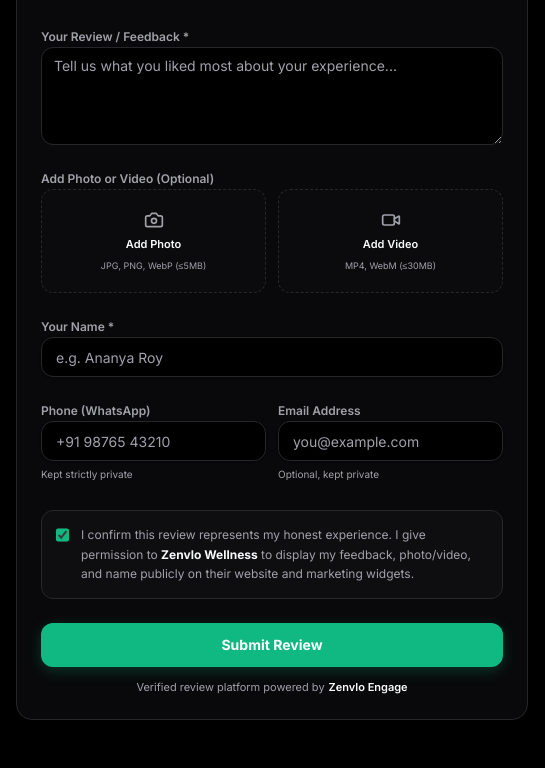
Test: PublicTestimonialPage Integration Tests › validates minimum review content and reviewer name length
(page scrolled)
Note: Submit without typing review content or reviewer name
Click the button "Submit Review": (272, 644) [41, 622, 503, 666]
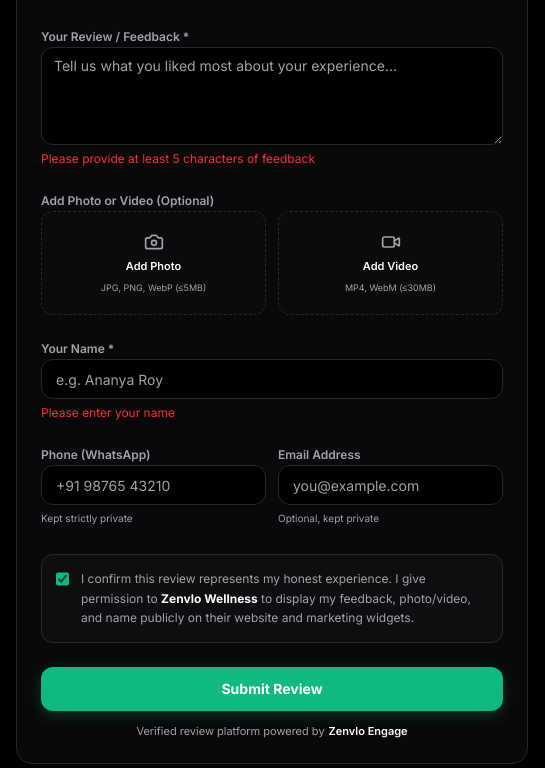
Expected: the text "Please provide at least 5 characters of feedback" is shown, [41, 151, 315, 166]
Expected: the text "Please enter your name" is shown, [41, 405, 175, 420]
